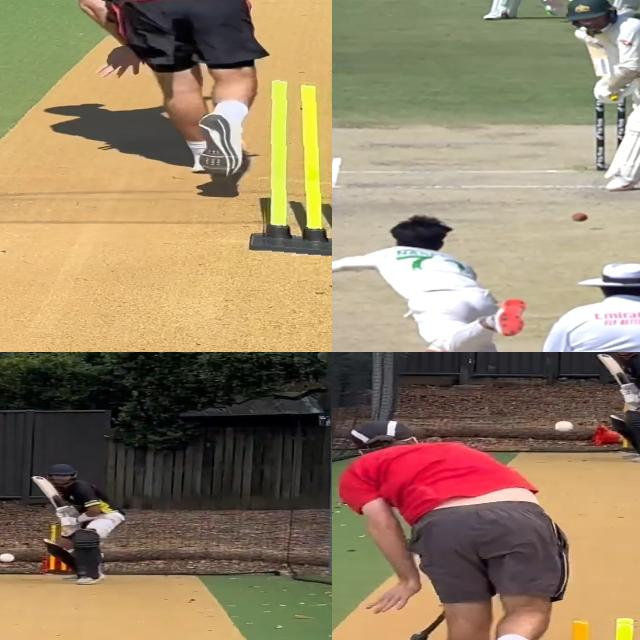Cricket ball: (553, 418, 577, 433), (571, 212, 589, 222), (0, 552, 15, 562)
Stumps: (261, 75, 332, 255)
